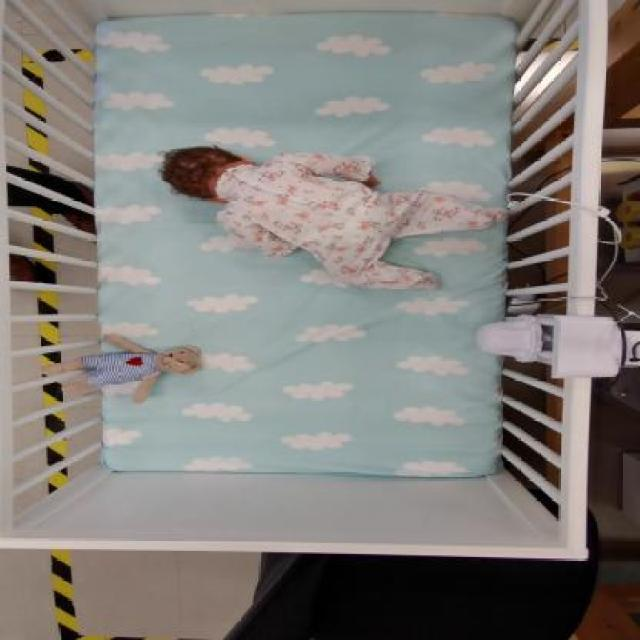baby: (160, 143, 510, 290)
